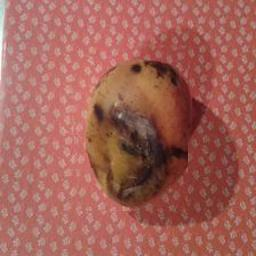Mango Rotten: (68, 39, 189, 211)
